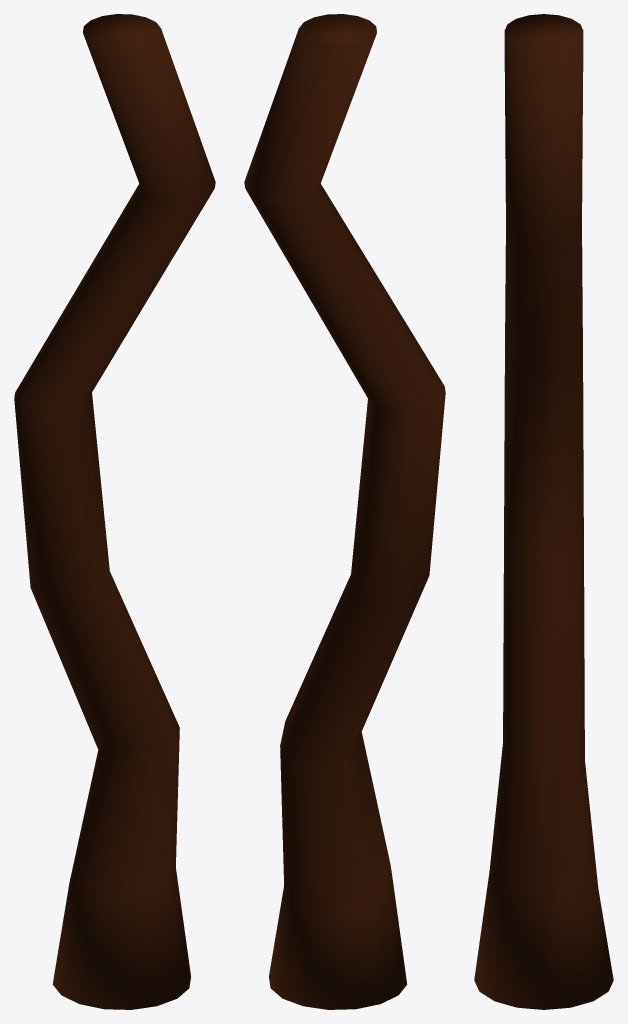
The model's file is tree_4_trunk.obj.
The picture shows the model from 3 angles, left to right: view 1: azimuth 30°, elevation 25°; view 2: azimuth 150°, elevation 25°; view 3: azimuth 270°, elevation 25°; orthographic projection.
Visible parts, largest first — view 1: Cylinder; view 2: Cylinder; view 3: Cylinder.
Boxes of the visible parts, x1,y1,x2,y2 form: Cylinder: (14,14,215,1009); Cylinder: (244,14,445,1009); Cylinder: (474,14,613,1009).
Size of the model in its own units: 1.17 by 5.53 by 0.7364.
